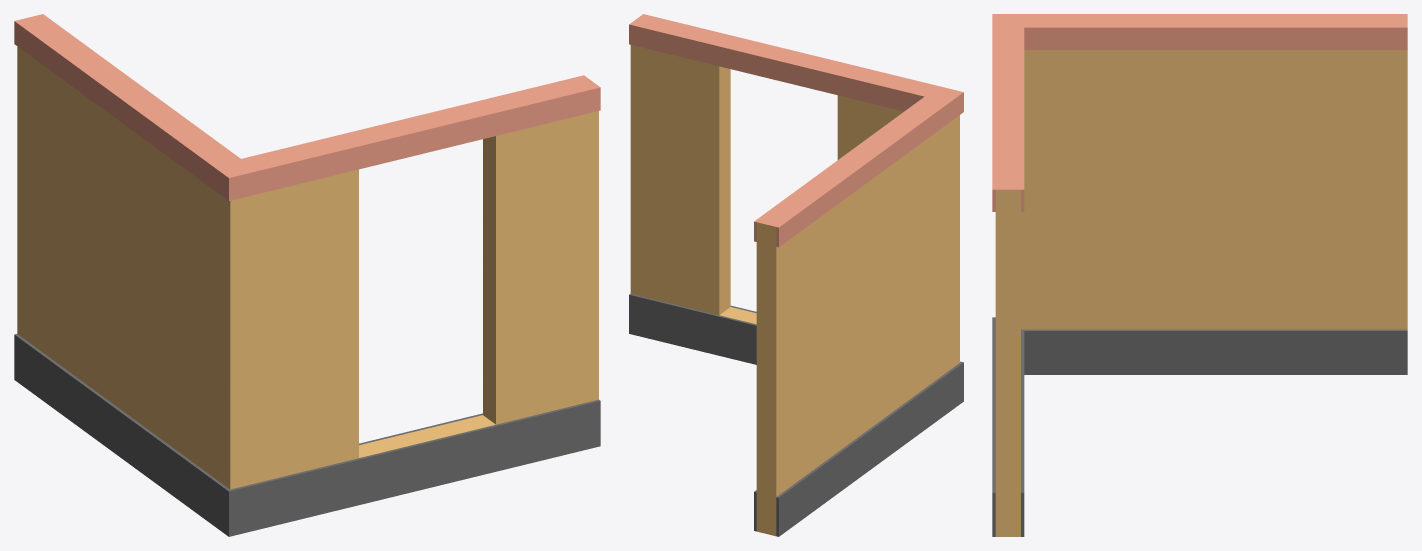
The model's file is Wall06-01.fbx.
3 renders of one model, left to right at view 1: azimuth 30°, elevation 25°; view 2: azimuth 150°, elevation 25°; view 3: azimuth 270°, elevation 25°, orthographic. The views are drawn at different scales.
Parts seen in each view (by area): view 1: Wall06-01; view 2: Wall06-01; view 3: Wall06-01.
Boxes of the visible parts, x1=… form: Wall06-01: x1=14, y1=14, x2=600, y2=536; Wall06-01: x1=629, y1=14, x2=963, y2=536; Wall06-01: x1=992, y1=14, x2=1407, y2=536.
Bounding box in the file's own units: 3.25 × 3.25 × 3.
